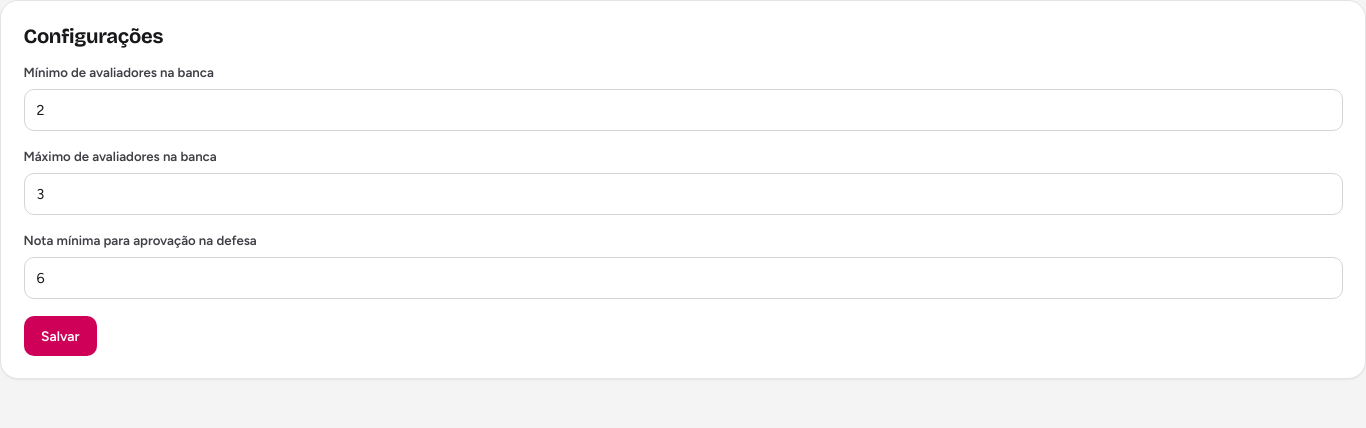
coordenação: configurações › mostra o erro da API
Click the button "Salvar".
click(60, 336)  # box [24,316,97,356]
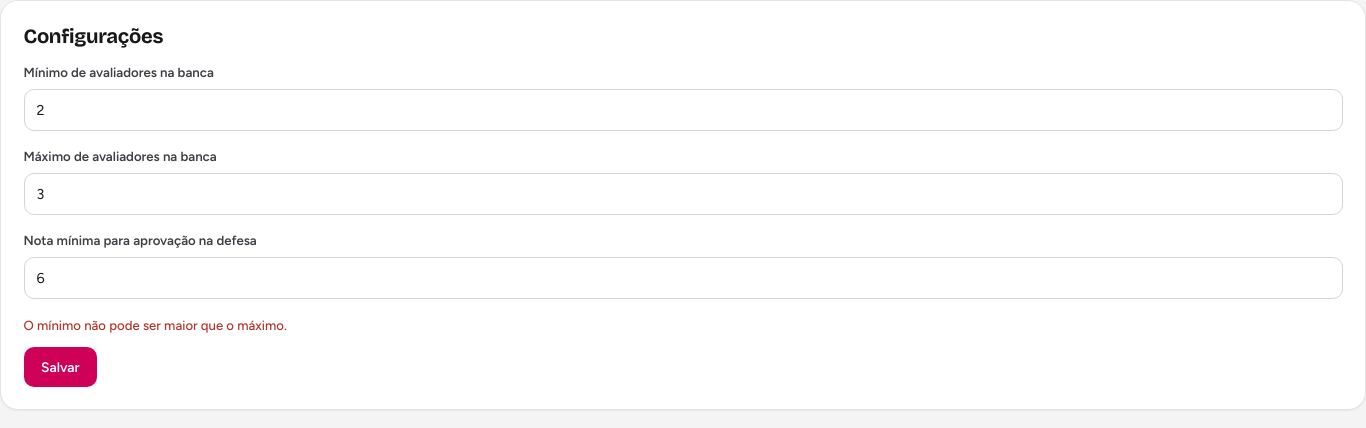
Now the message reads "O mínimo não pode ser maior que o máximo.", box [24,317,287,333]
